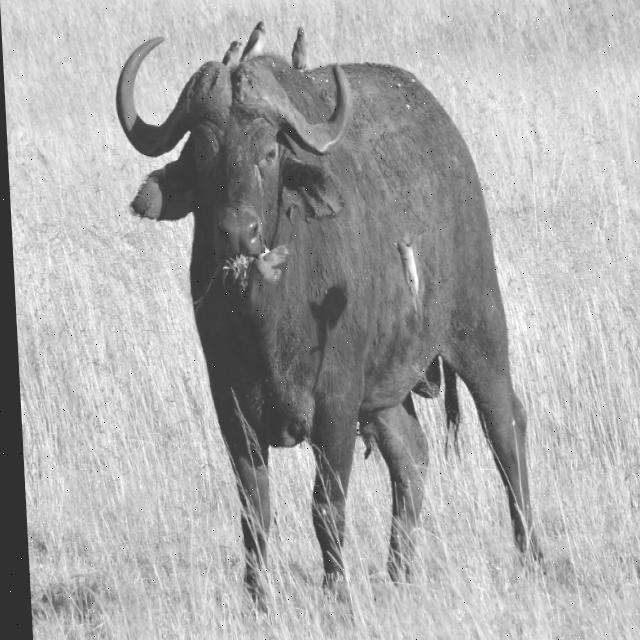Buffalo: (112, 35, 551, 611)
